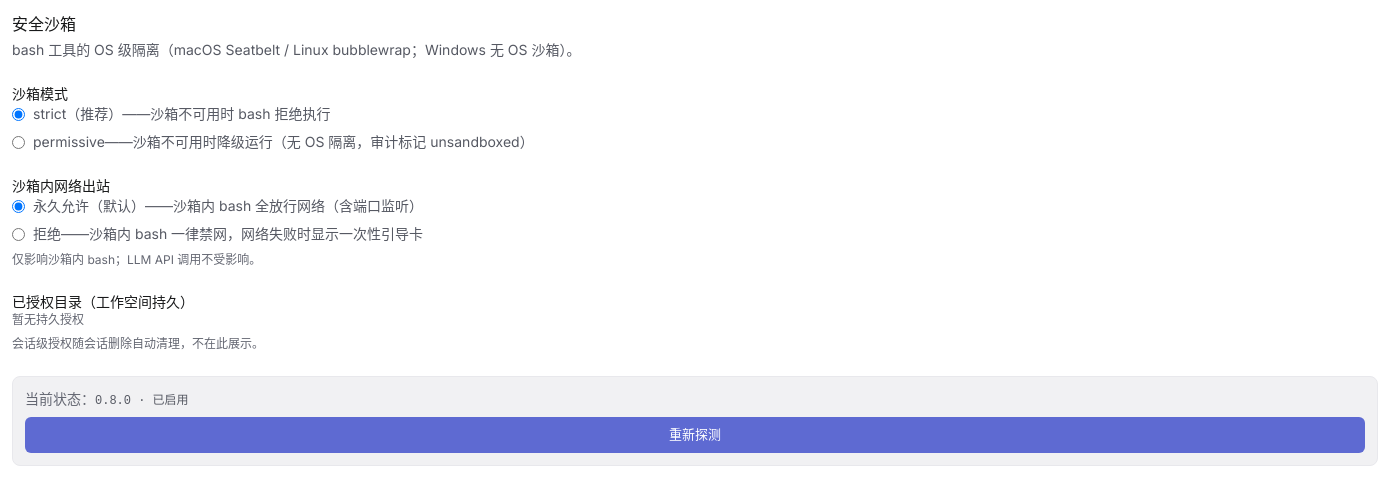
Test: SandboxSettingsPanel › 点击"重新探测" → 调 reprobe 并用返回值刷新状态区
Expected: the text "0.8.0 · 已启用" is shown, [95,394,189,408]
What coordinates should you click on to do the following:
click the button "重新探测"
I would click on:
 (695, 435)
Its box is [25,417,1365,452].
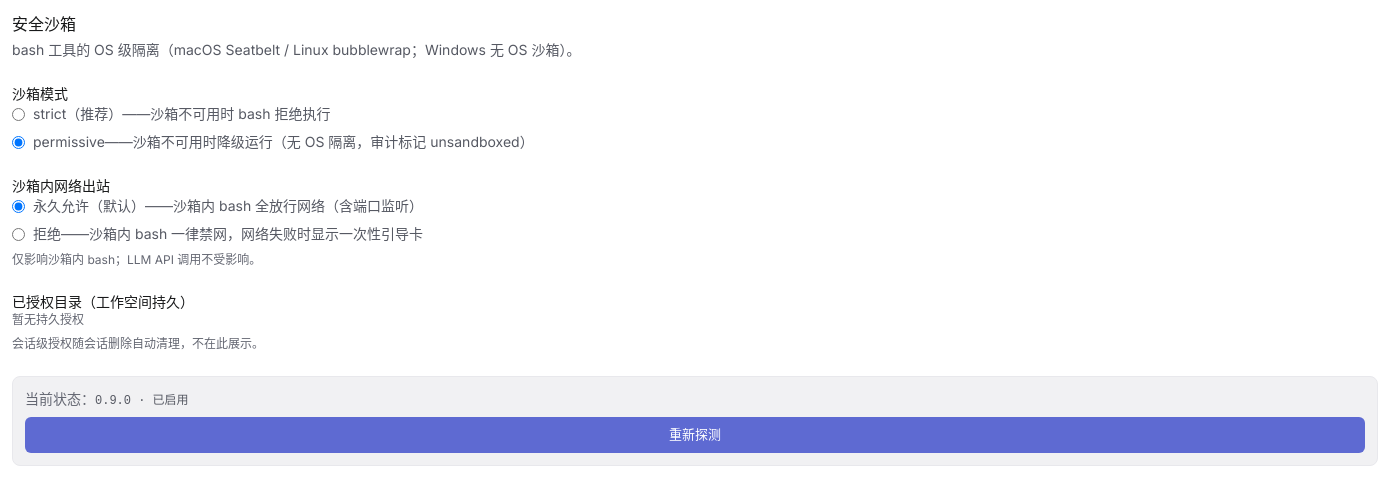
Expected: the radio button labelled "永久允许（默认）" is checked, [12,200,25,213]
Expected: the text "0.9.0 · 已启用" is shown, [95,394,189,408]
Expected: the radio button labelled "permissive——沙箱不可用时降级运行（无 OS 隔离，审计标记 unsandboxed）" is checked, [12,136,25,149]
